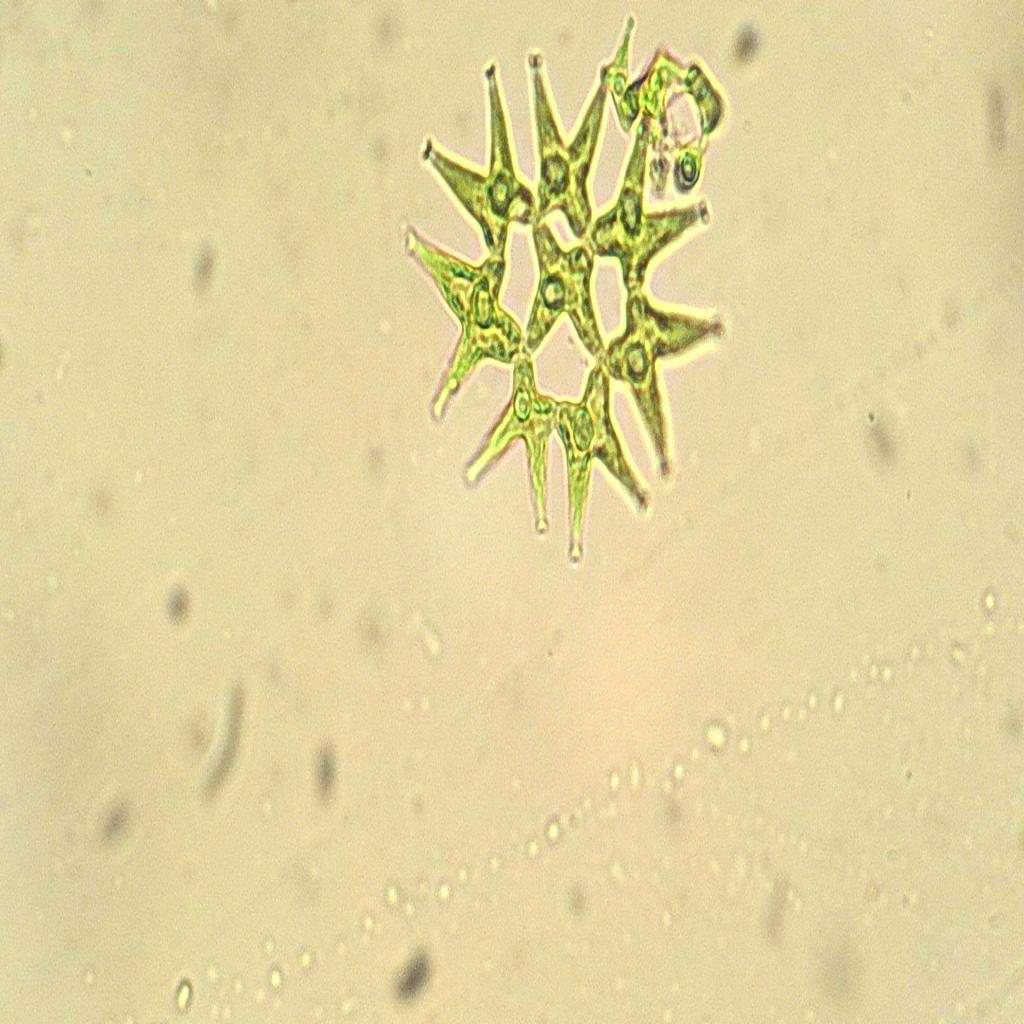Pediastrum_1T: (386, 33, 754, 579)
